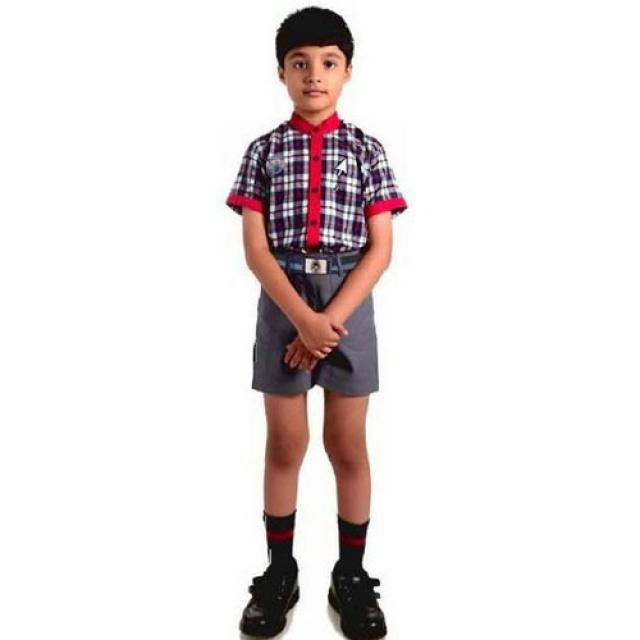child: (226, 2, 400, 638)
